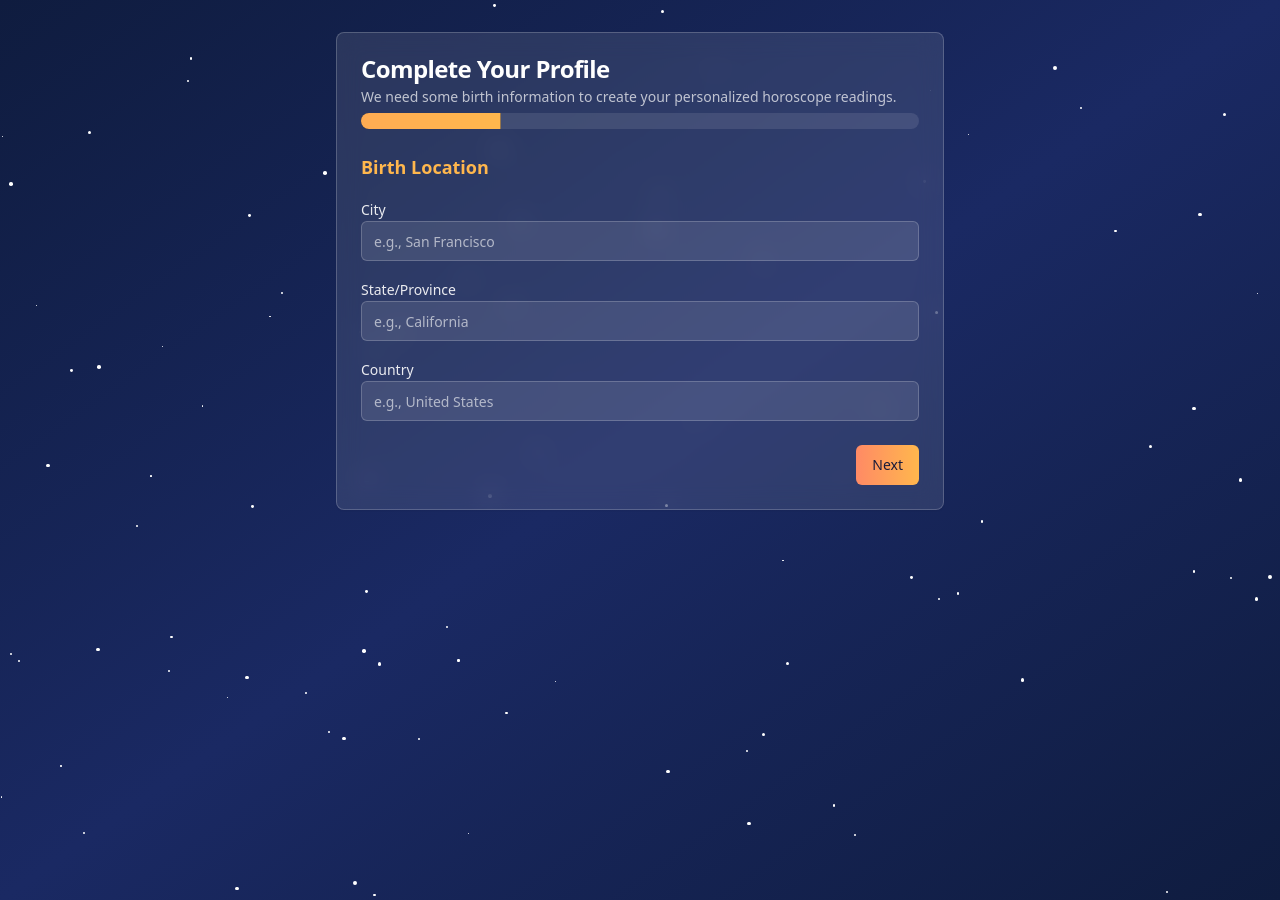
Scenario: OnboardingPage › saves progress to localStorage
The image size is (1280, 900).
Check: the heading "Birth Location" is shown, box [361, 155, 489, 179]
// Fill in step 1
In the field labelled "City": (640, 241) [361, 221, 919, 261], type "San Francisco"
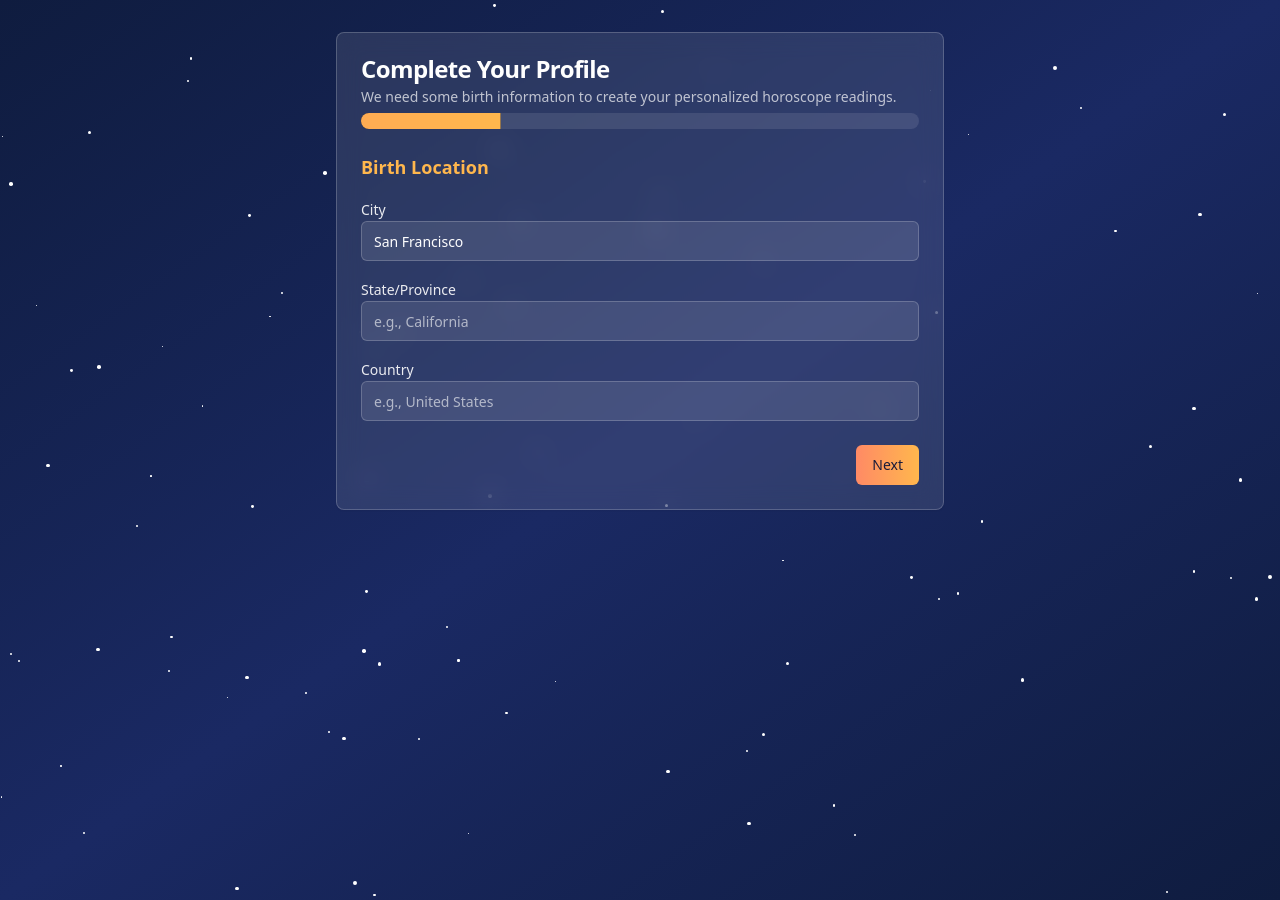
In the field labelled "State/Province": (640, 321) [361, 301, 919, 341], type "California"
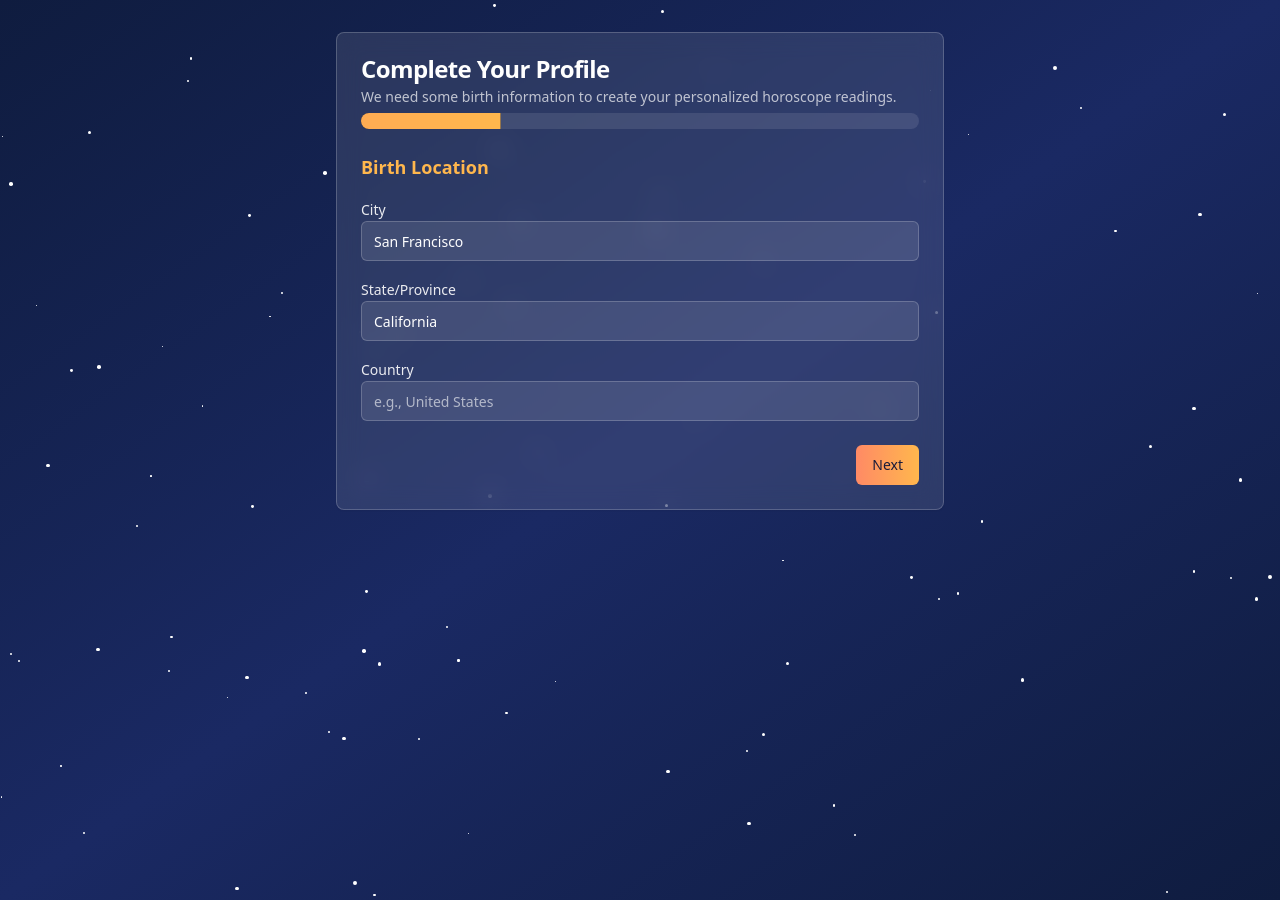
In the field labelled "Country": (640, 401) [361, 381, 919, 421], type "United States"
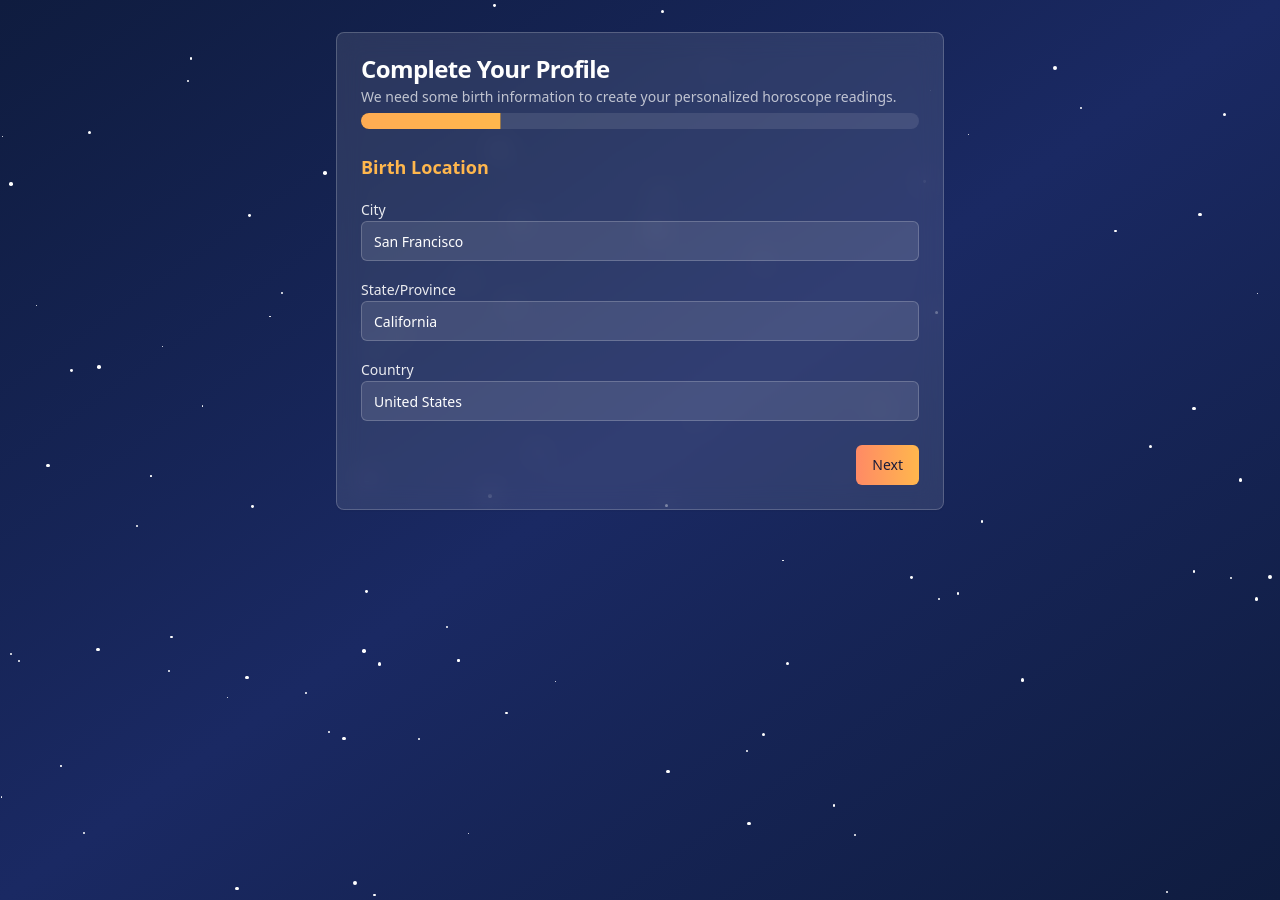
Click the button "Next": (888, 465) [856, 445, 919, 485]
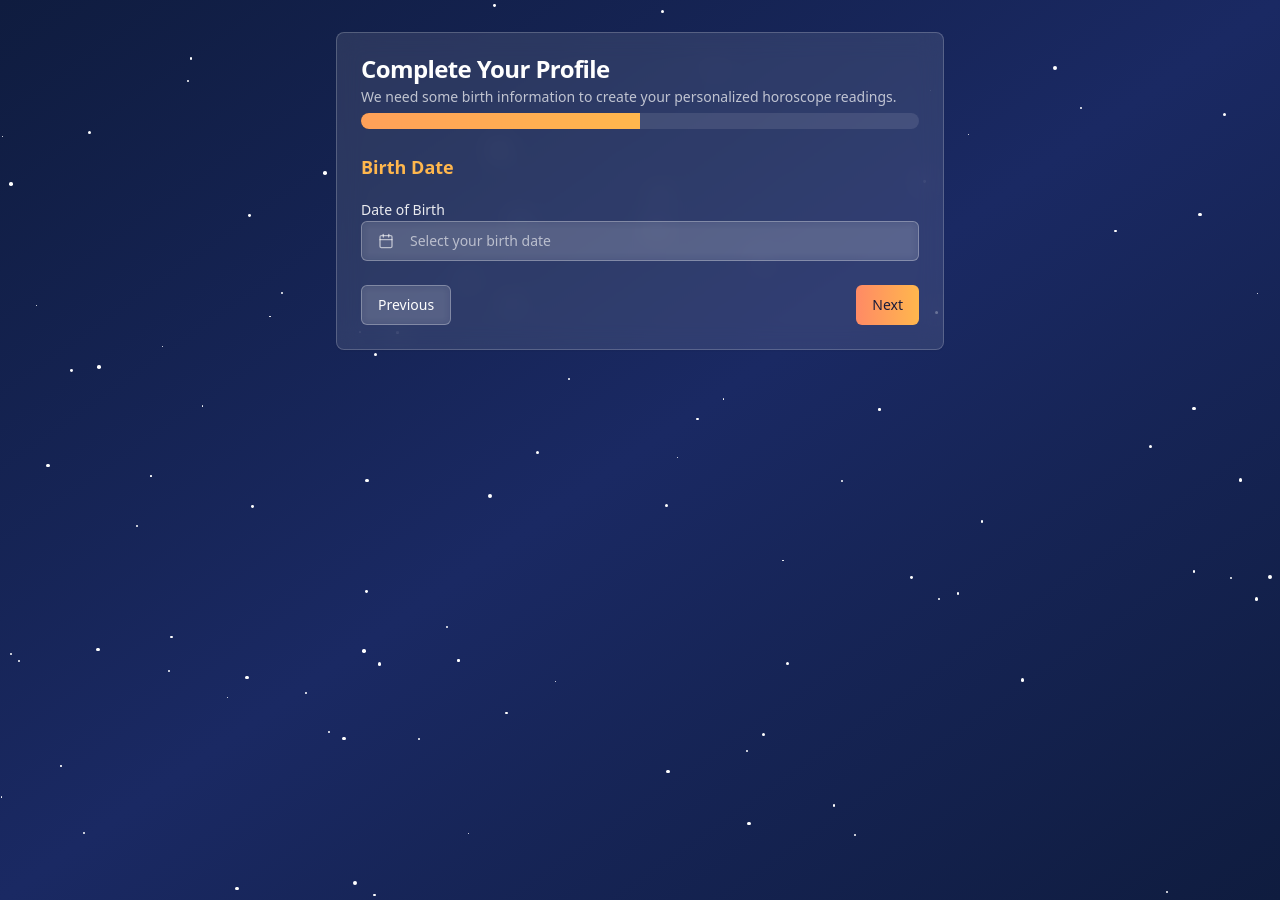
Check: the heading "Birth Date" is shown, box [361, 155, 454, 179]
